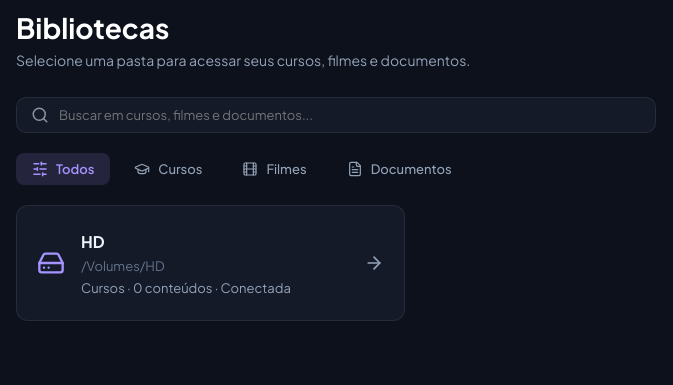
it: LibraryView — drill-down da fonte › mostra cards de curso quando a fonte tem vários cursos e nenhuma coleção
What coordinates should you click on to do the following:
click the text "HD"
I would click on:
 (93, 241)
Its box is [81,230,105,252].
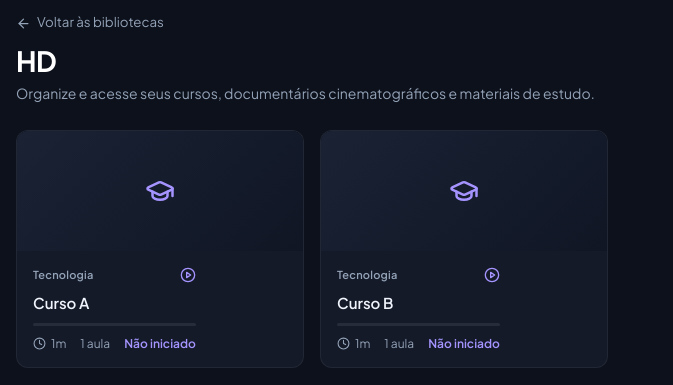
Now the heading "Curso A" is shown, box [33,293,89,312]
Now the heading "Curso B" is shown, box [337,293,393,312]
